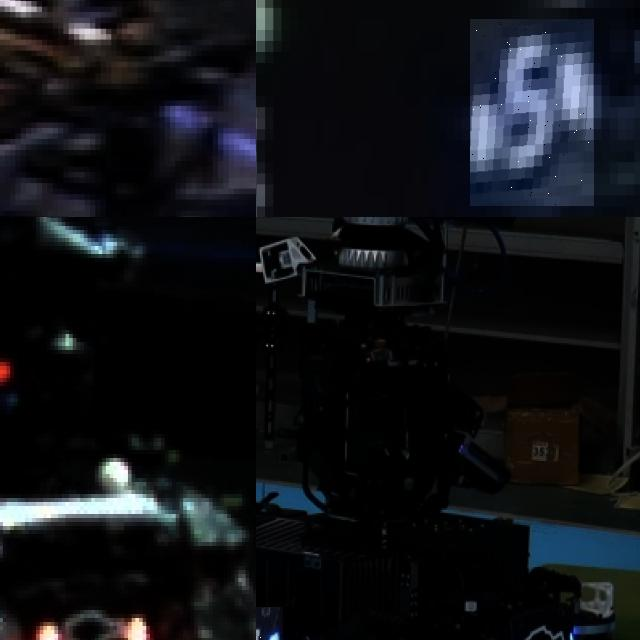B5: (470, 19, 594, 206)
Bs: (499, 619, 584, 640)
Rs: (36, 618, 150, 640)
